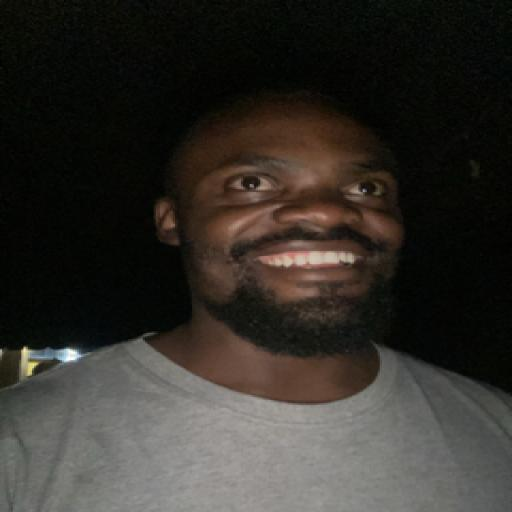JEANLUC: (154, 75, 412, 375)
